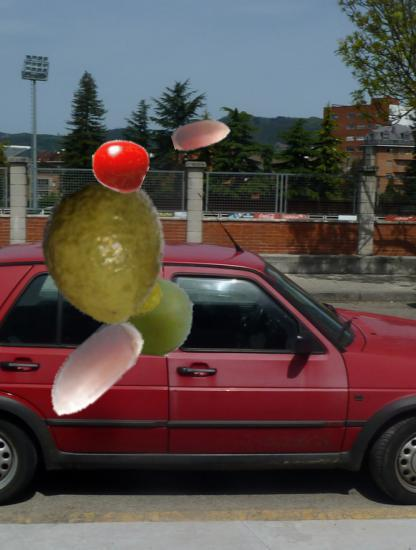Grape: (106, 272, 195, 361)
Guava: (34, 181, 178, 325), (93, 256, 163, 326)
Hazelnut: (34, 307, 155, 428), (171, 103, 232, 164)
Tomato: (91, 136, 148, 193)
